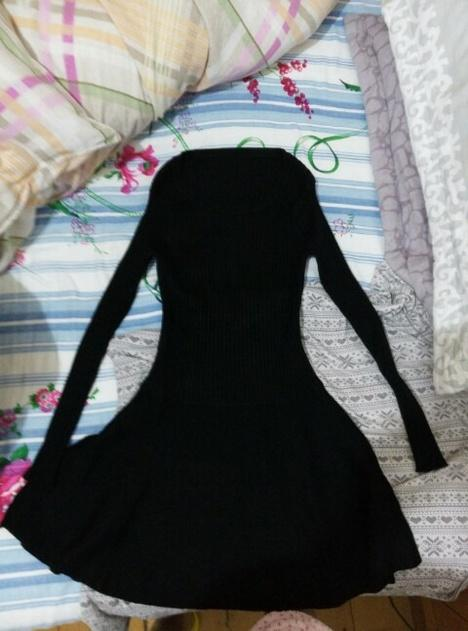S_dress: (3, 145, 453, 615)
